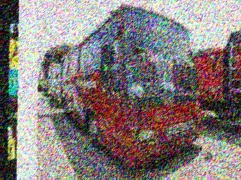bus: (55, 2, 204, 172)
